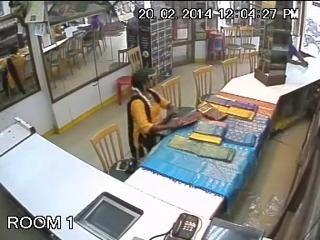shoplifting: (111, 62, 211, 157)
